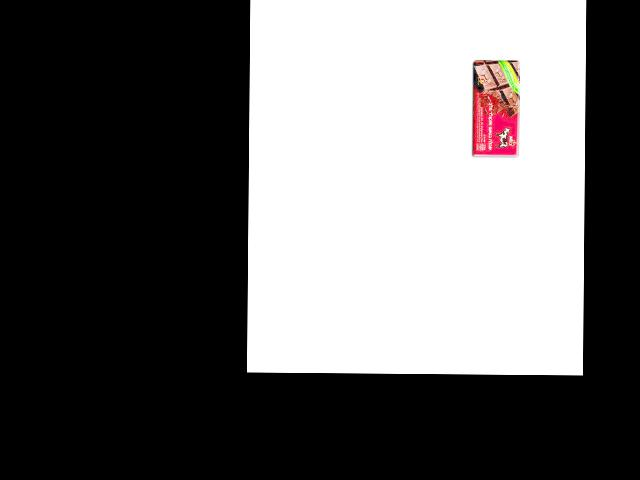chocolate: (467, 59, 521, 160)
